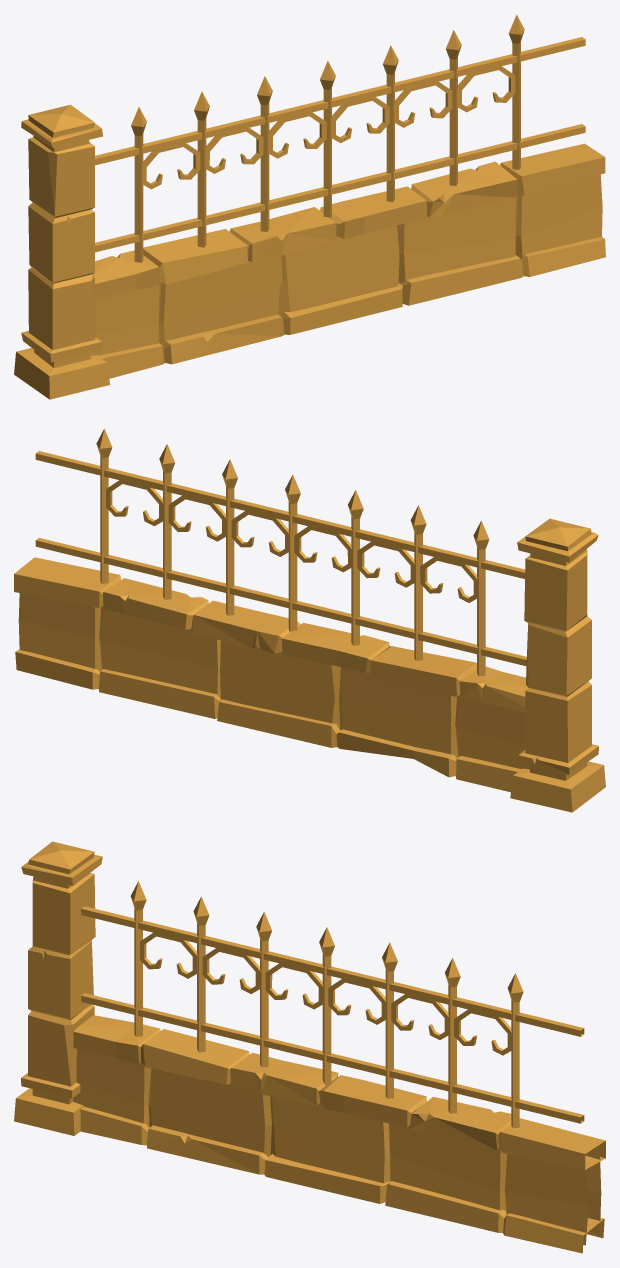
Rendered from wall-graveyard-3m.fbx.
3 renders of one model, top to bottom at view 1: azimuth 30°, elevation 25°; view 2: azimuth 150°, elevation 25°; view 3: azimuth 330°, elevation 25°, orthographic.
Parts seen in each view (by area): view 1: wall-graveyard-3m; view 2: wall-graveyard-3m; view 3: wall-graveyard-3m.
Boxes of the visible parts, x1,y1,x2,y2 form: wall-graveyard-3m: [14, 14, 605, 399]; wall-graveyard-3m: [14, 429, 605, 812]; wall-graveyard-3m: [14, 841, 605, 1253].
Bounding box in the file's own units: 3.18 × 1.43 × 0.345.
